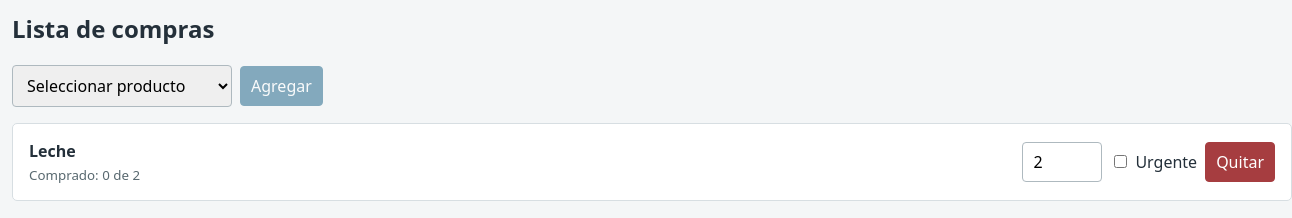
Test: ShoppingListPage › sólo una compra en curso bloquea la edición (estado: null)
Expected: the number field named "Cantidad de Leche" is enabled, top-left (1022, 142), bottom-right (1102, 182)
Expected: the checkbox labelled "Urgente" is enabled, top-left (1114, 155), bottom-right (1127, 168)
Select "Leche" in the dropdown at point(122, 86), box top-left (12, 65), bottom-right (232, 107)
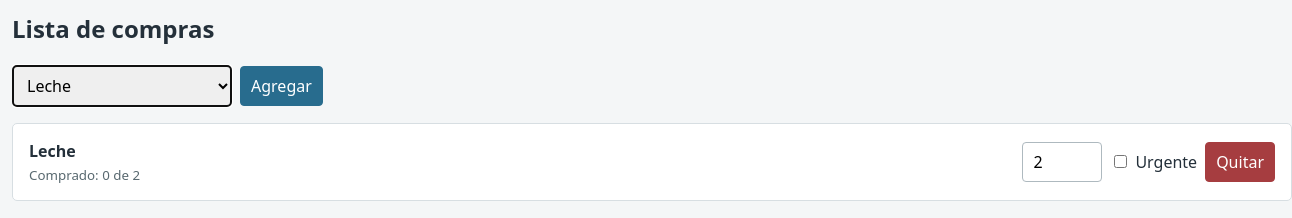
Result: the button "Agregar" is enabled at top-left (240, 66), bottom-right (323, 106)
